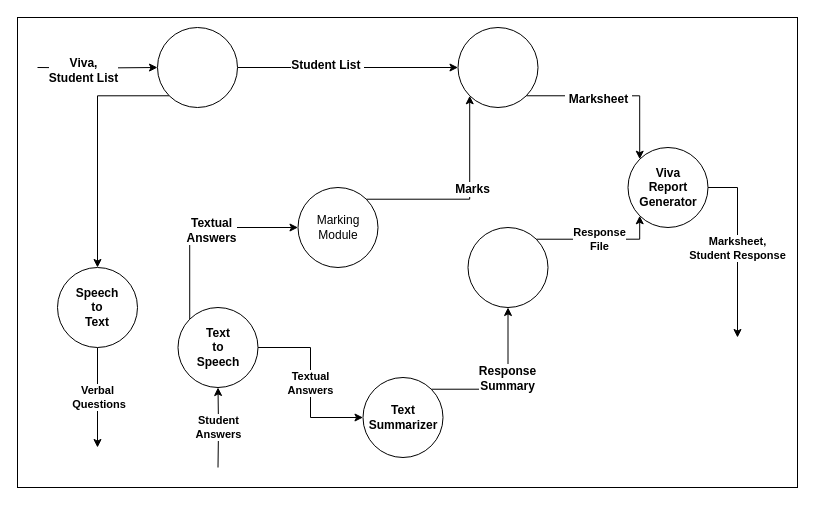
Image size: 815x505. Some labels were removed from this diagram. Each missing label, with the centre of its shape:
"Marksheet Creator" belongs at point 497,67.
"Response File Generator" belongs at point 507,267.
"Viva Manager" belongs at point 197,67.
